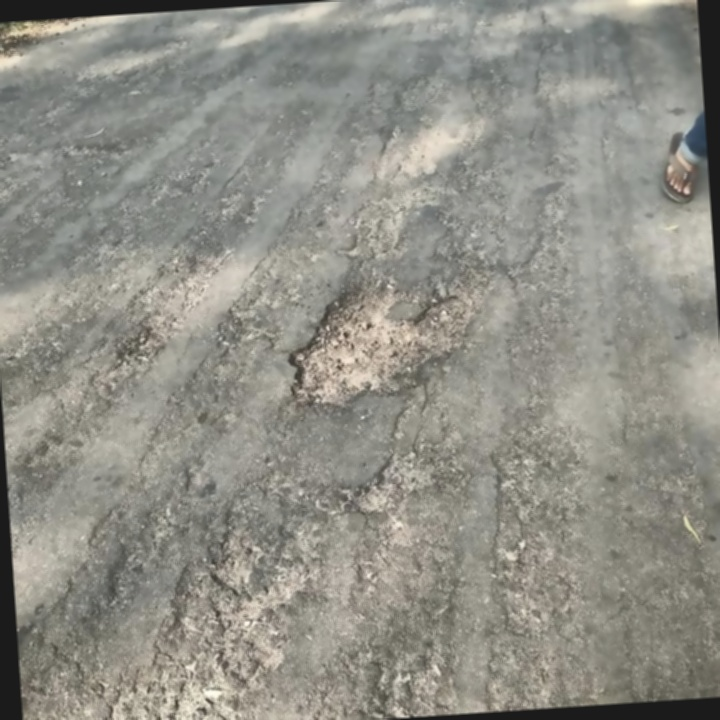pothole: (277, 271, 495, 415)
